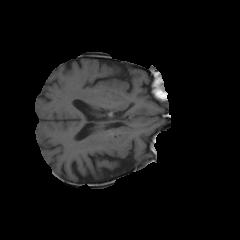glioma: (105, 64, 165, 106)
